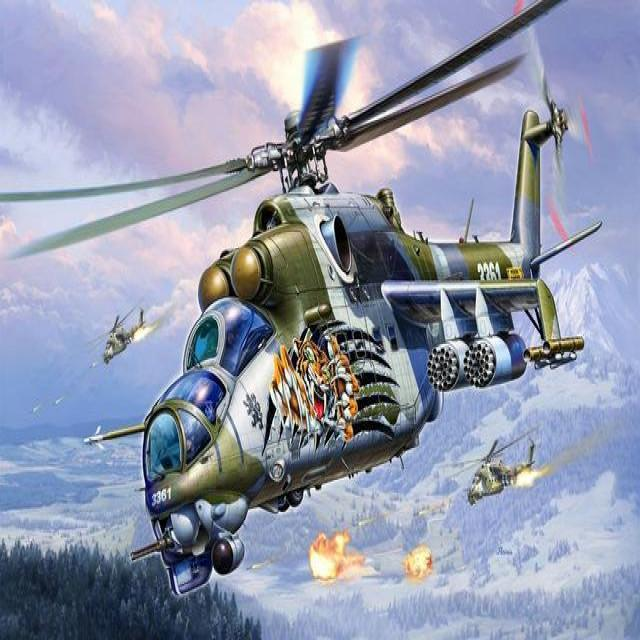MIL_HELO: (10, 0, 602, 586), (442, 427, 550, 503), (72, 302, 160, 368)
